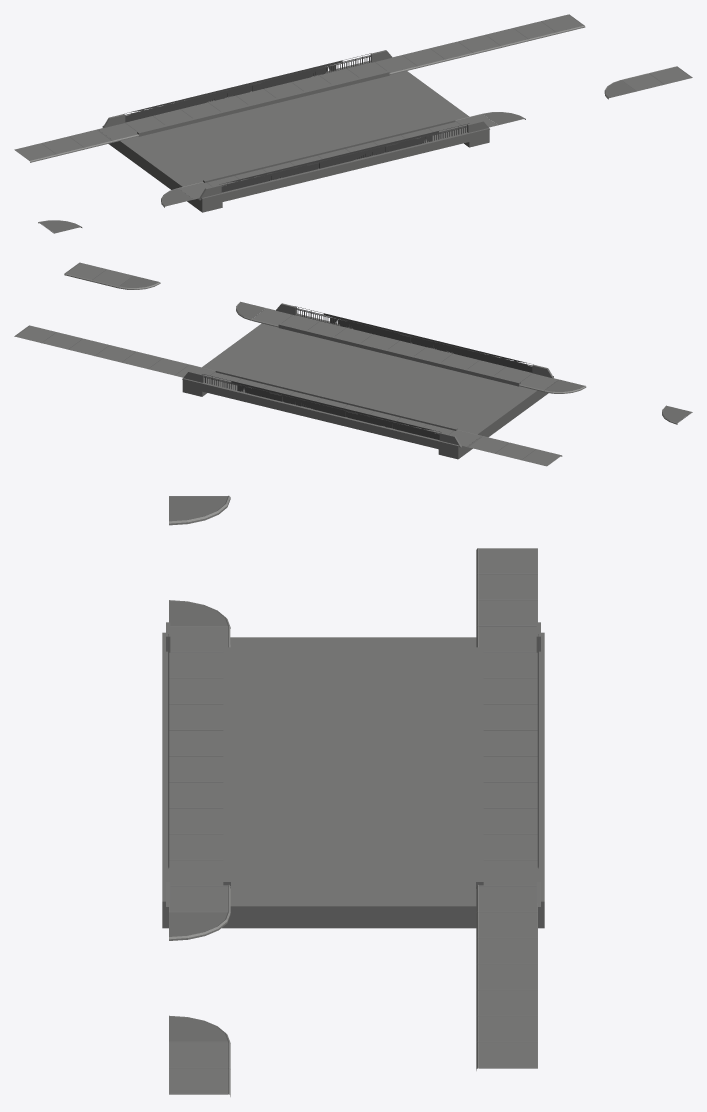
File: bordur.fbx
3 renders of one model, top to bottom at view 1: azimuth 30°, elevation 25°; view 2: azimuth 150°, elevation 25°; view 3: azimuth 270°, elevation 25°, orthographic. The views are drawn at different scales.
Visible parts, largest first — view 1: Bordur.001; view 2: Bordur.001; view 3: Bordur.001.
Boxes of the visible parts, bbox=[...] form: Bordur.001: bbox=[14, 14, 692, 233]; Bordur.001: bbox=[14, 262, 692, 466]; Bordur.001: bbox=[162, 495, 544, 1096].
Bounding box in the file's own units: 104 × 3.5 × 28.
